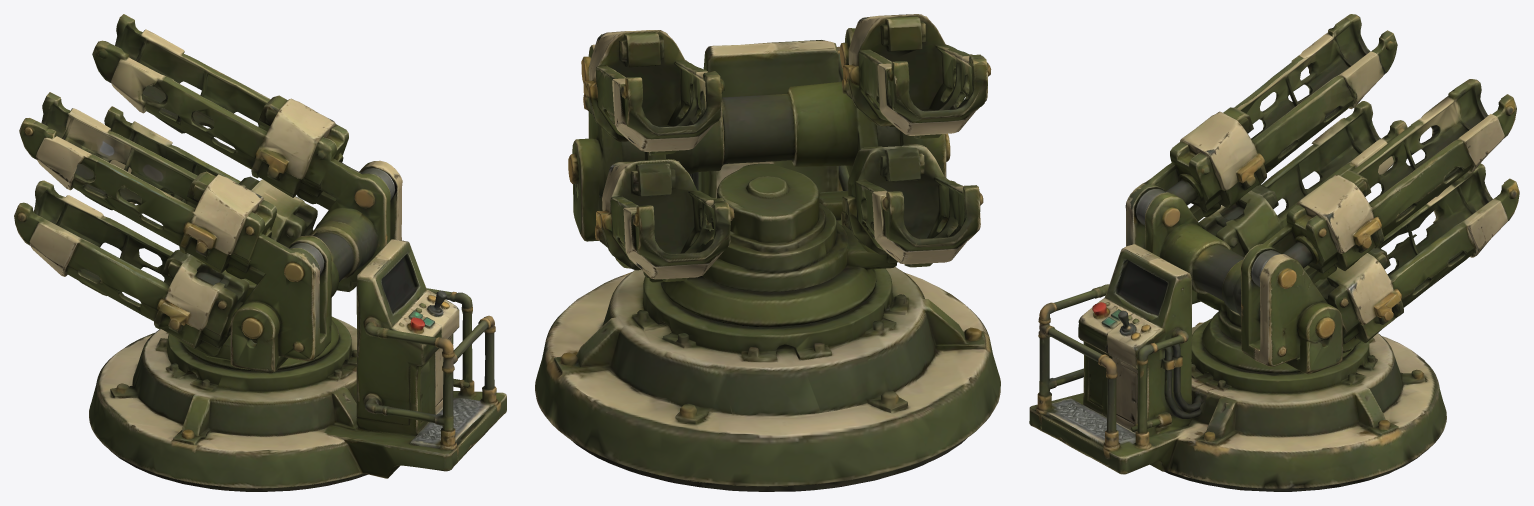
The model's file is padaria-lancador.glb.
The picture shows the model from 3 angles, left to right: view 1: azimuth 30°, elevation 25°; view 2: azimuth 150°, elevation 25°; view 3: azimuth 270°, elevation 25°; orthographic projection. The views are drawn at different scales.
Parts seen in each view (by area): view 1: tripo_node_29d1ab9e-73b7-471b-91fa-7ec2fb5b5534; view 2: tripo_node_29d1ab9e-73b7-471b-91fa-7ec2fb5b5534; view 3: tripo_node_29d1ab9e-73b7-471b-91fa-7ec2fb5b5534.
Part boxes in pixels (x1,y1,x2,y2): tripo_node_29d1ab9e-73b7-471b-91fa-7ec2fb5b5534: [14, 14, 506, 491]; tripo_node_29d1ab9e-73b7-471b-91fa-7ec2fb5b5534: [535, 14, 1000, 491]; tripo_node_29d1ab9e-73b7-471b-91fa-7ec2fb5b5534: [1029, 14, 1519, 491].
Size of the model in its own units: 3.23 by 2.74 by 3.8.
1 material, 1 textured.
